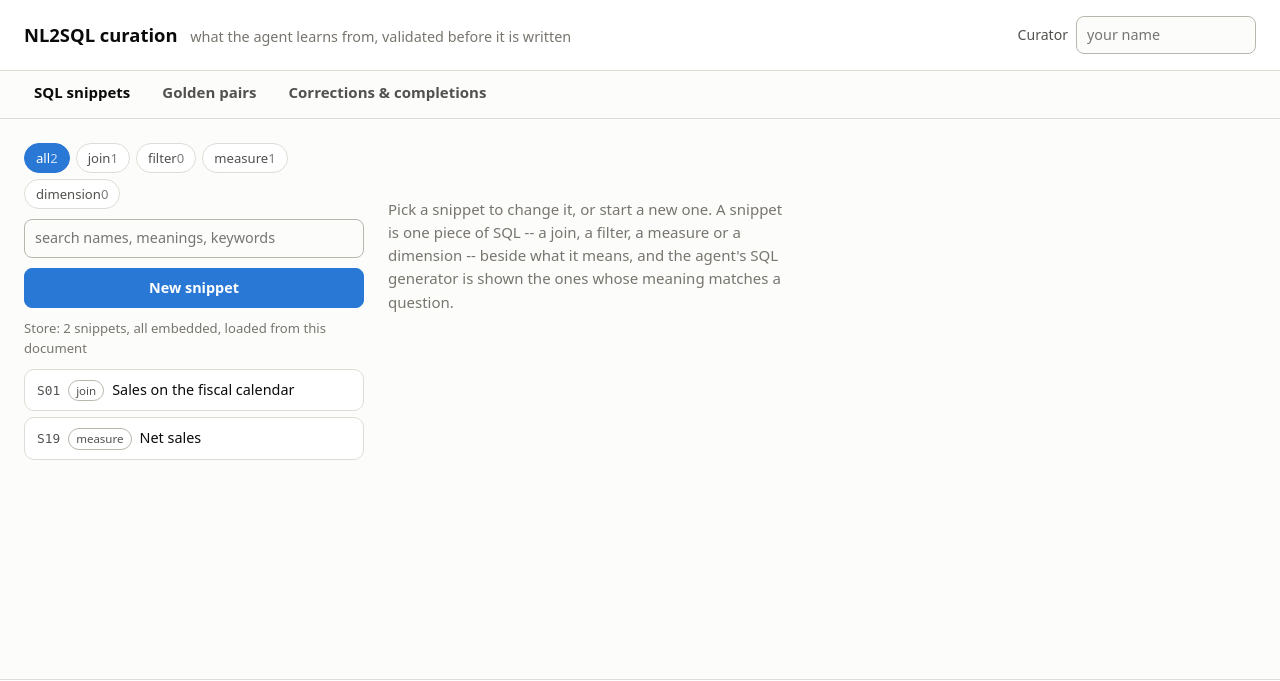
Scenario: the tabs › sends the curator's name with a fix
In the field labelled "Curator": (1166, 35) [1076,16,1256,54], type "ann"
Click the tab "Corrections & completions": (387, 94) [274,71,500,118]
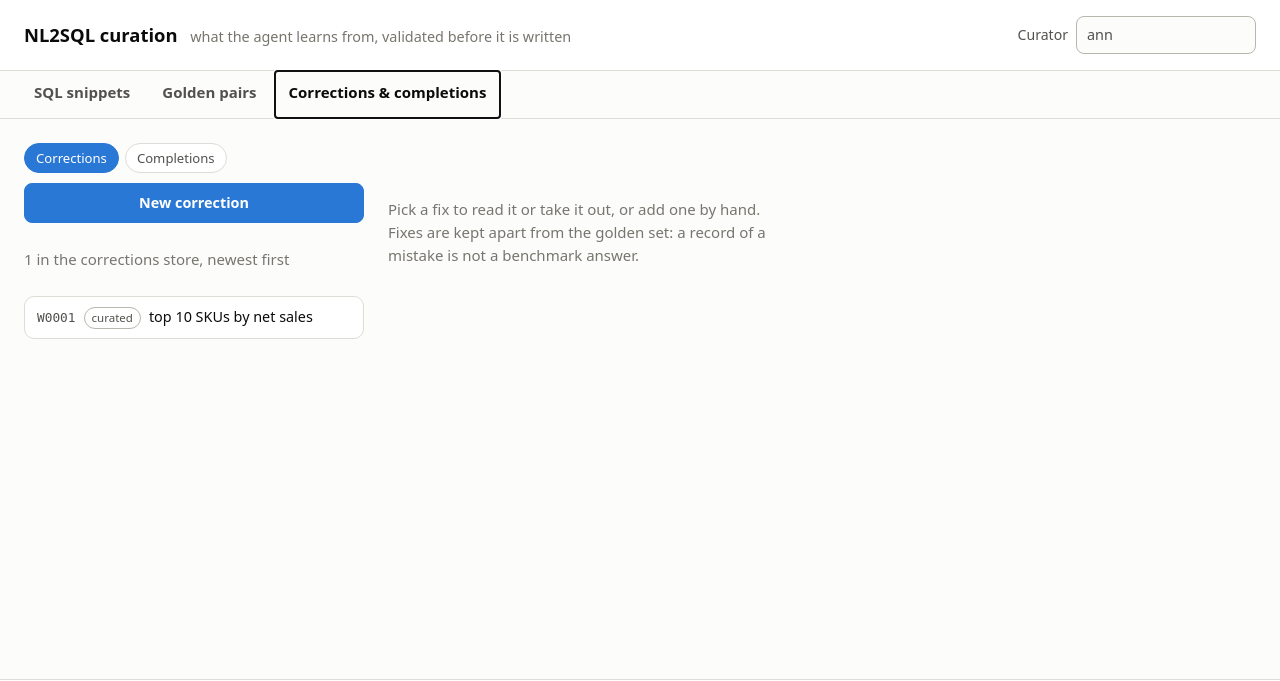
Click the button "New correction": (194, 203) [24,183,364,223]
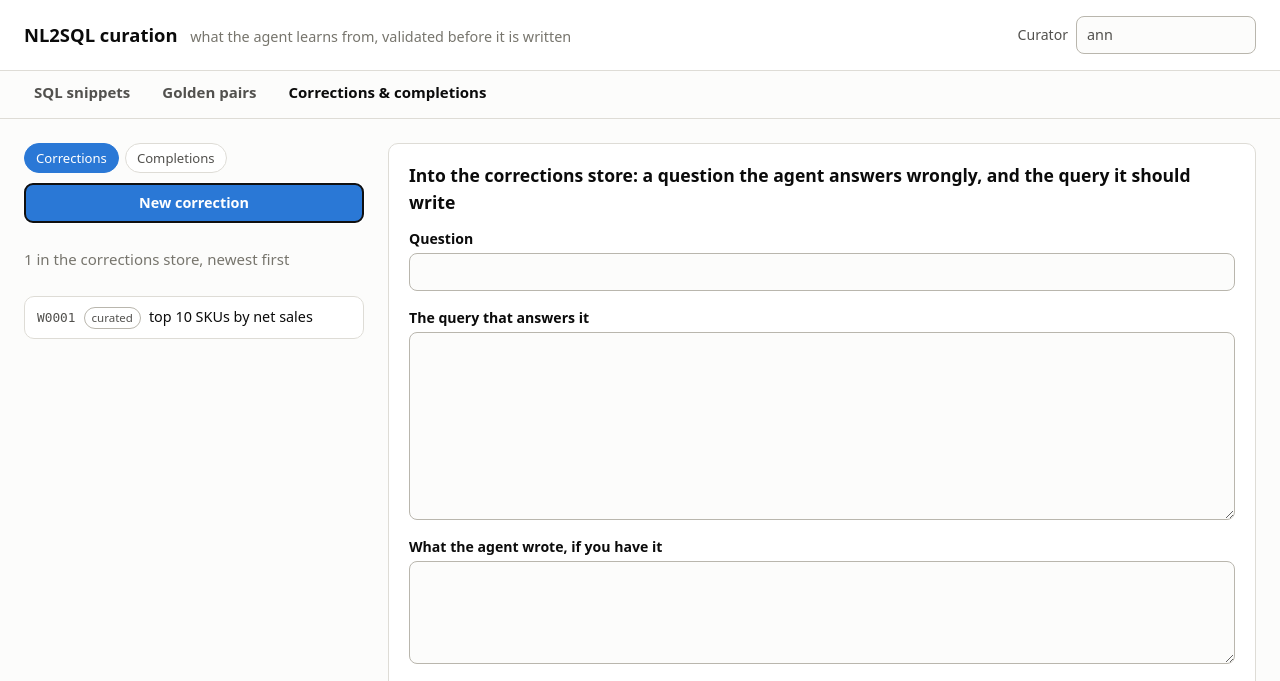
In the field labelled "Question": (822, 272) [409,253,1235,291], type "q"
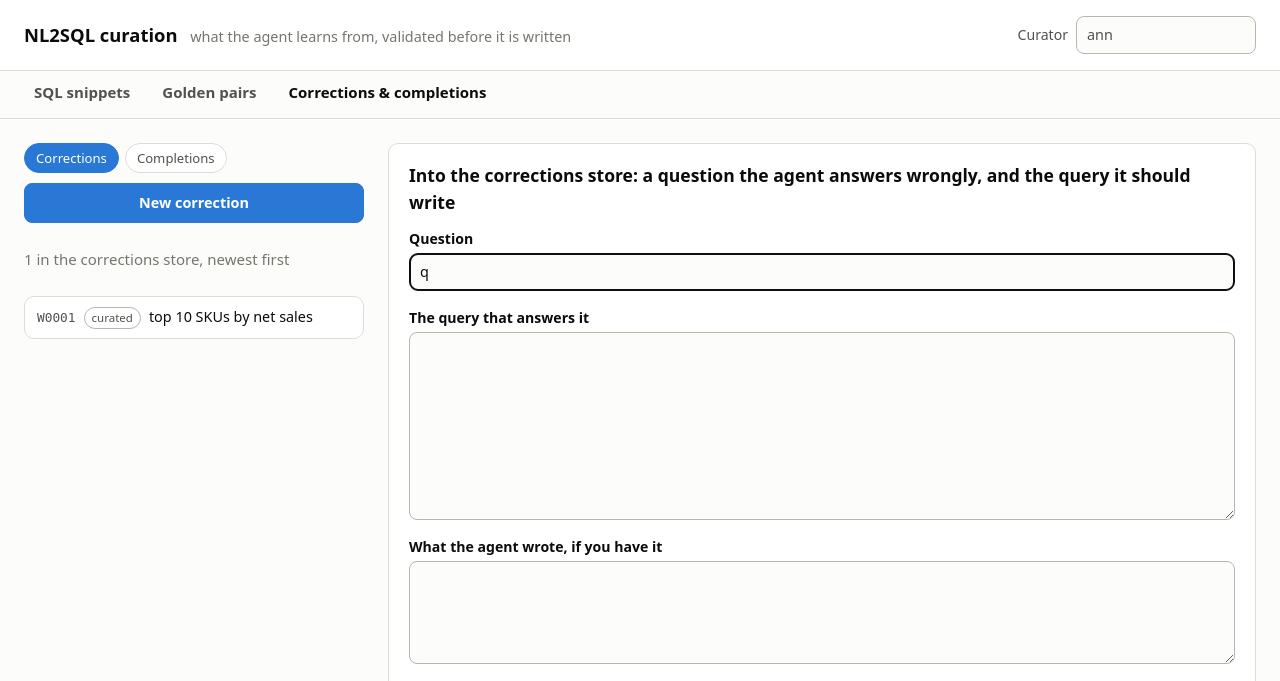
In the text box labelled "The query that answers it": (822, 426) [409,332,1235,520], type "SELECT 1"
(page scrolled)
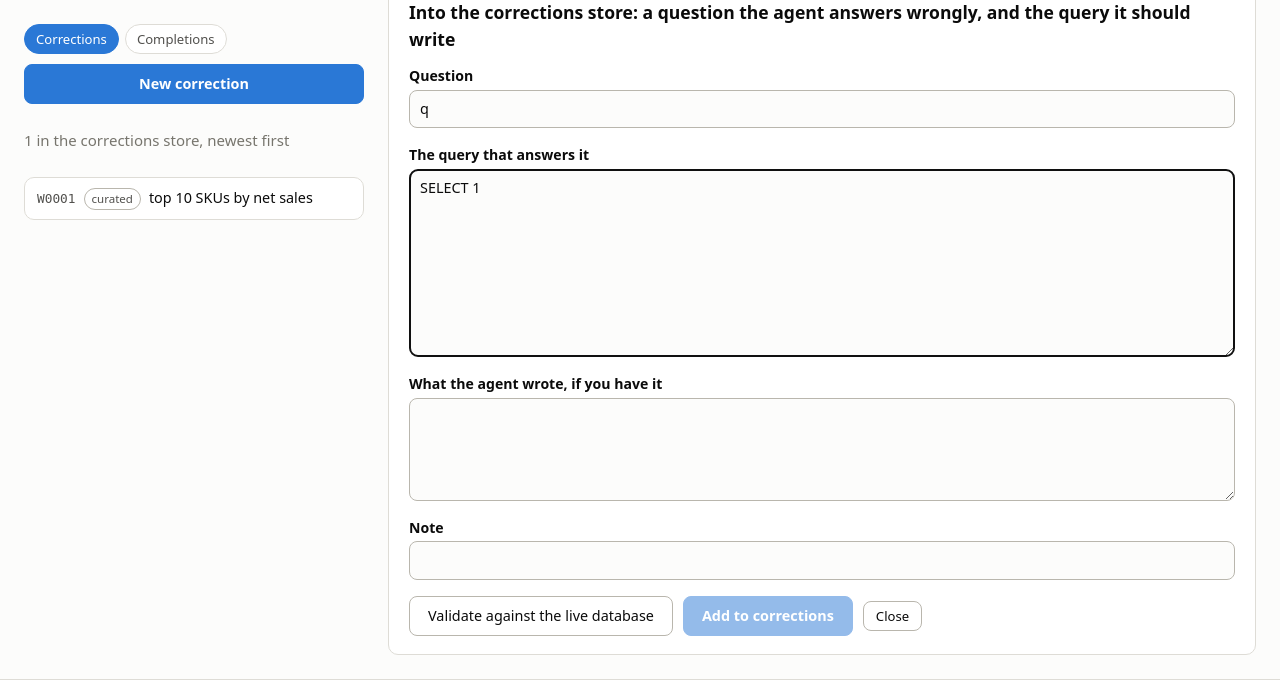
Click the button "Validate against the live database": (541, 616) [409,596,673,636]
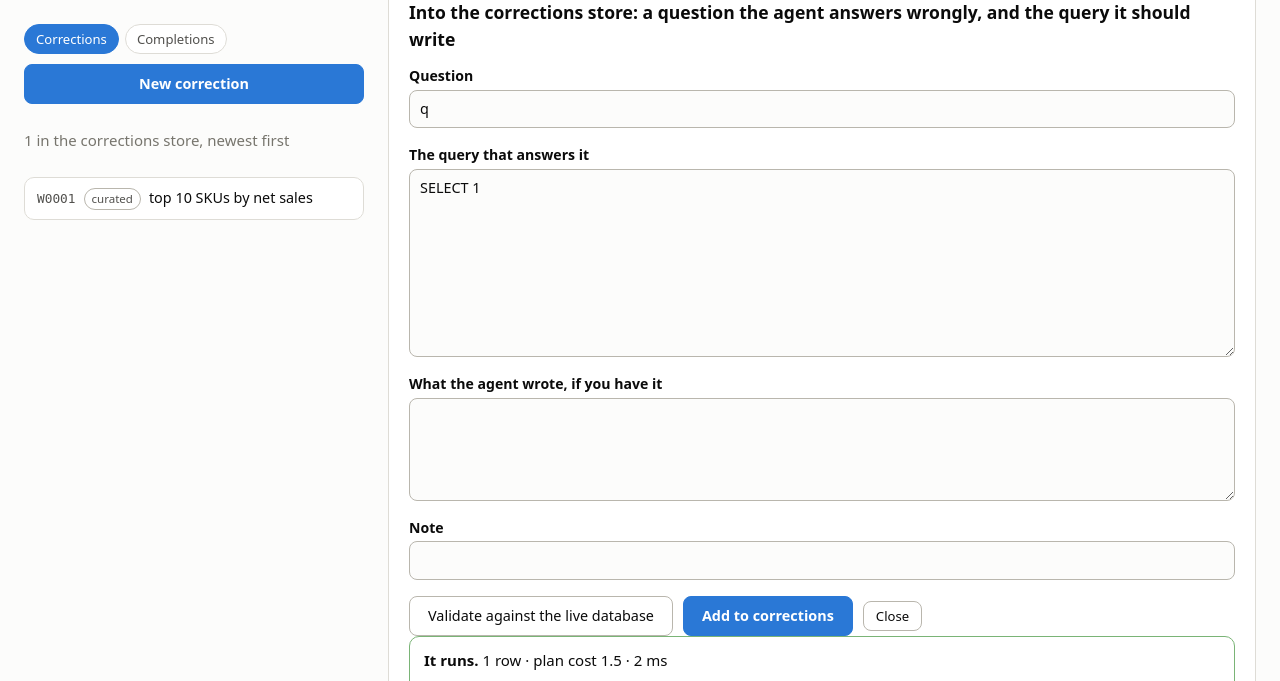
Expected: the text "It runs." is shown, [424,650,478,670]
Click the button "Add to corrections": (768, 616) [683,596,853,636]
(page scrolled)
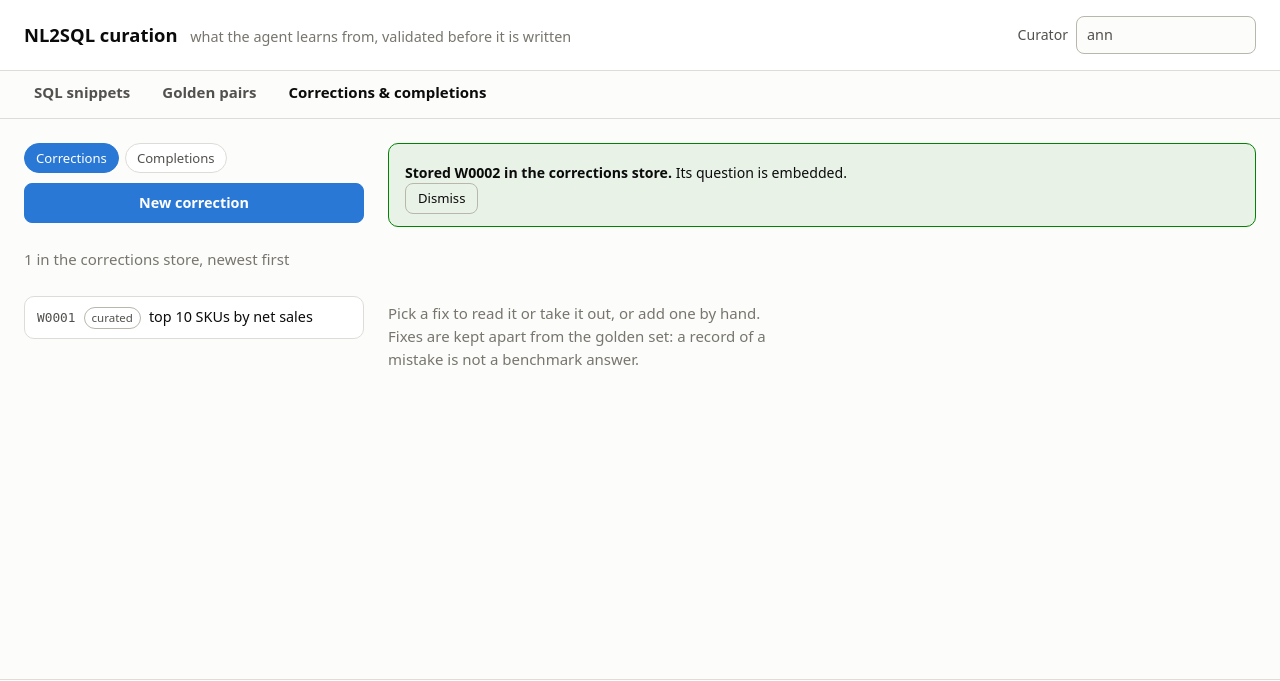
Expected: the text "Stored W0002 in the corrections store." is shown, [405,162,672,182]
